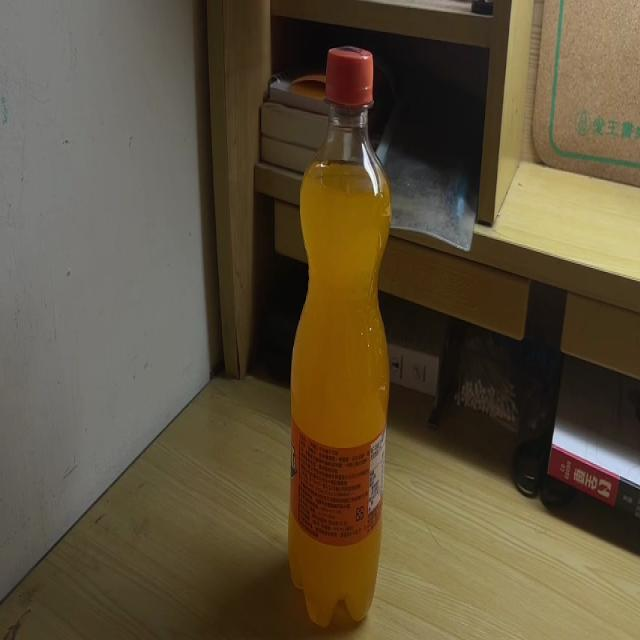Fanta: (291, 46, 388, 634)
